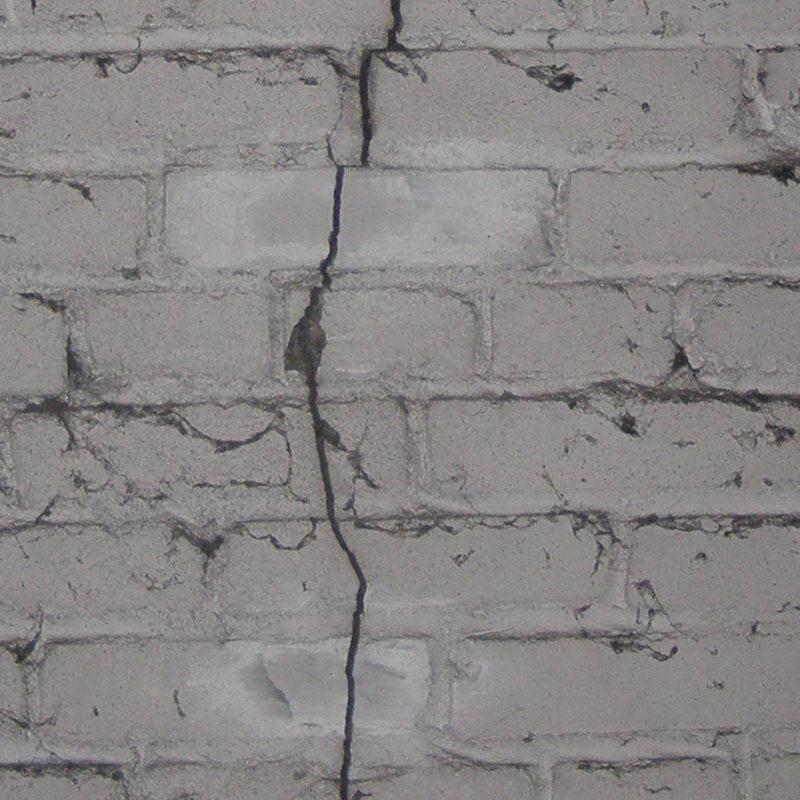pothole: (283, 0, 410, 799)
